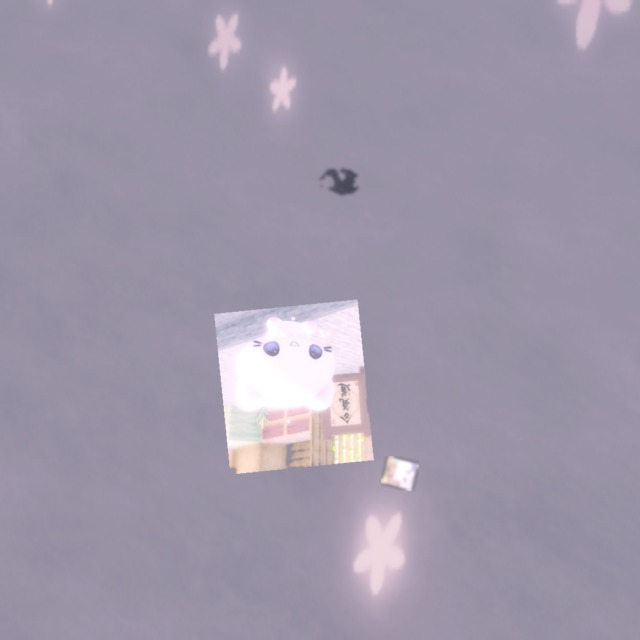urso_branco: (214, 299, 374, 475), (381, 456, 419, 491)
urso_preto: (310, 157, 370, 207)
